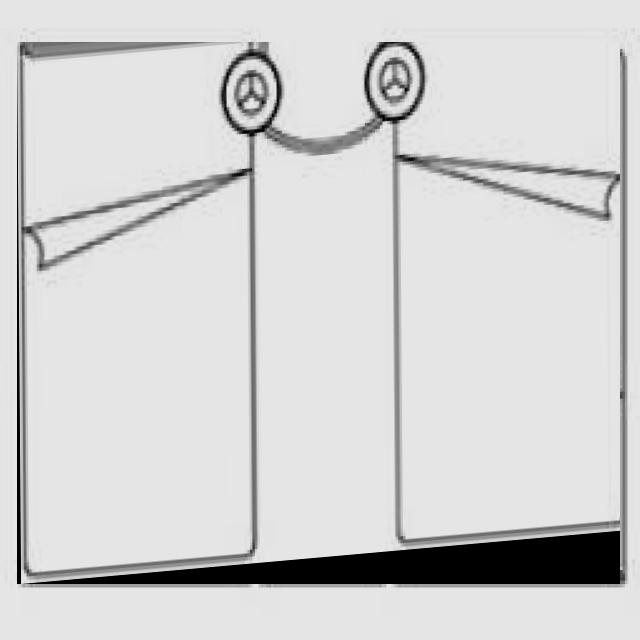bed: (17, 42, 620, 584)
